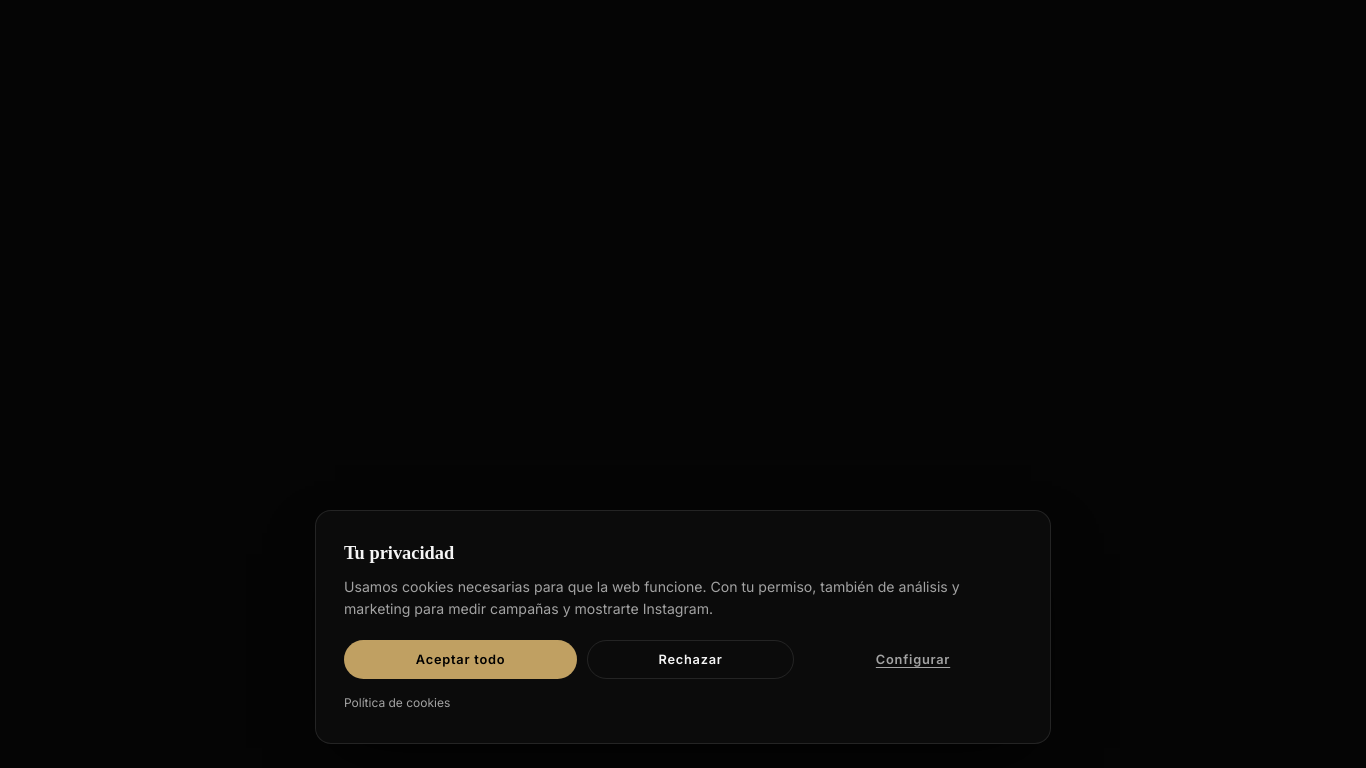
Test: CookieConsent › las cookies necesarias no son desactivables
Click the button "Configurar" at [913, 659], box [804,640,1022,679]
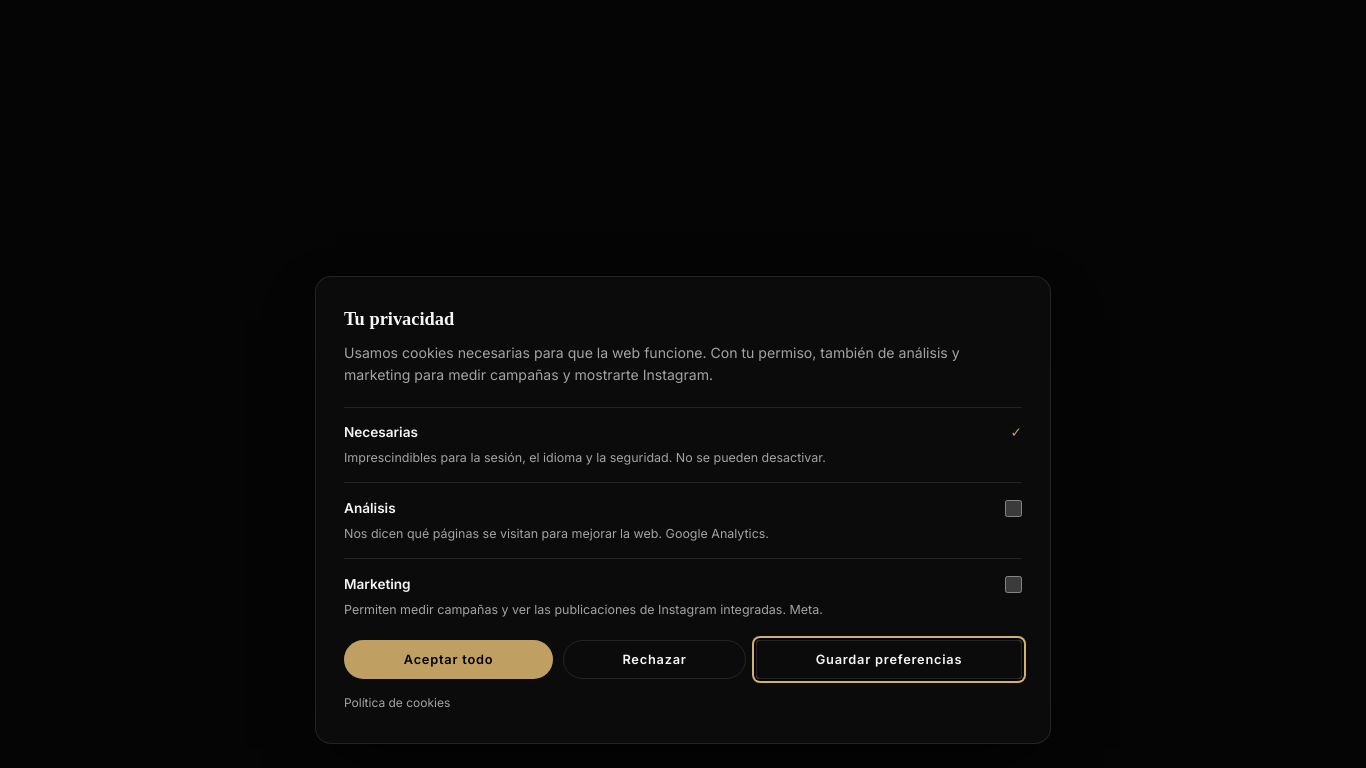
Check: the number of checkboxes is 2, box [1005,500,1022,517]; [1005,576,1022,593]
